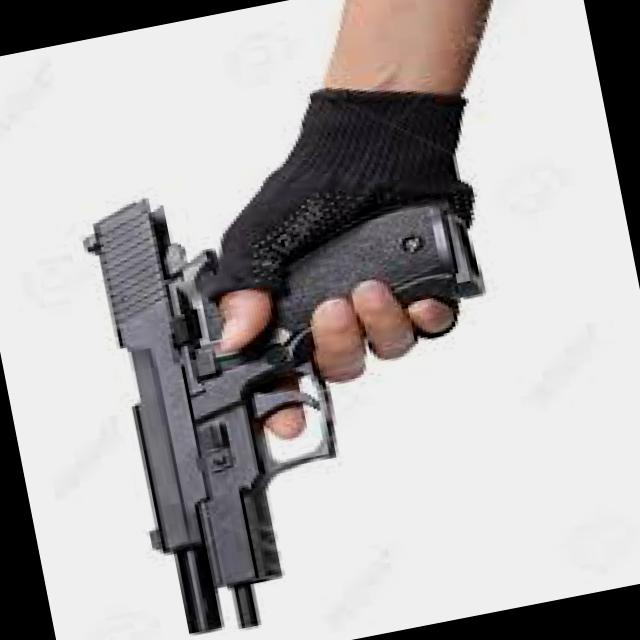handgun: (76, 135, 544, 639)
